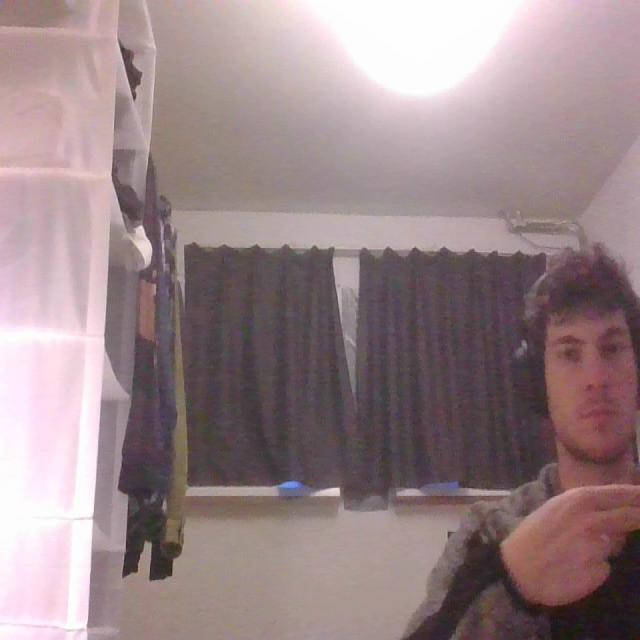right: (494, 482, 640, 612)
